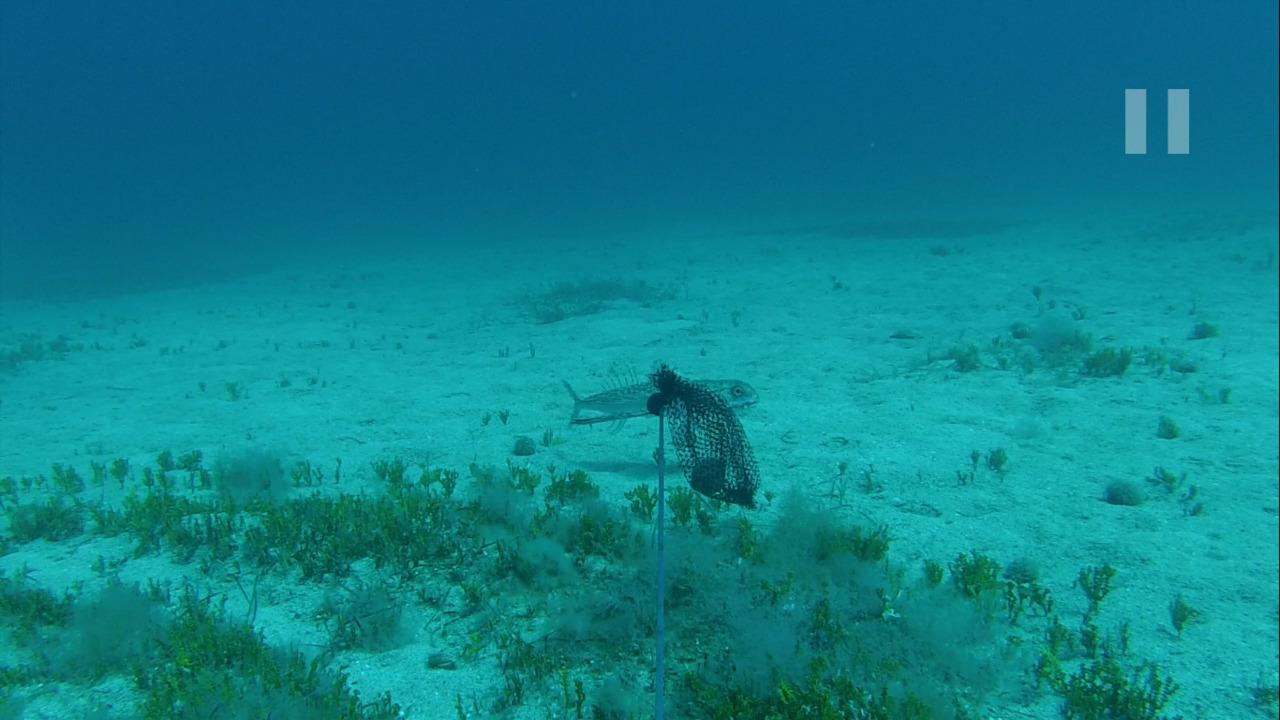dactylopterus: (557, 370, 760, 428)
